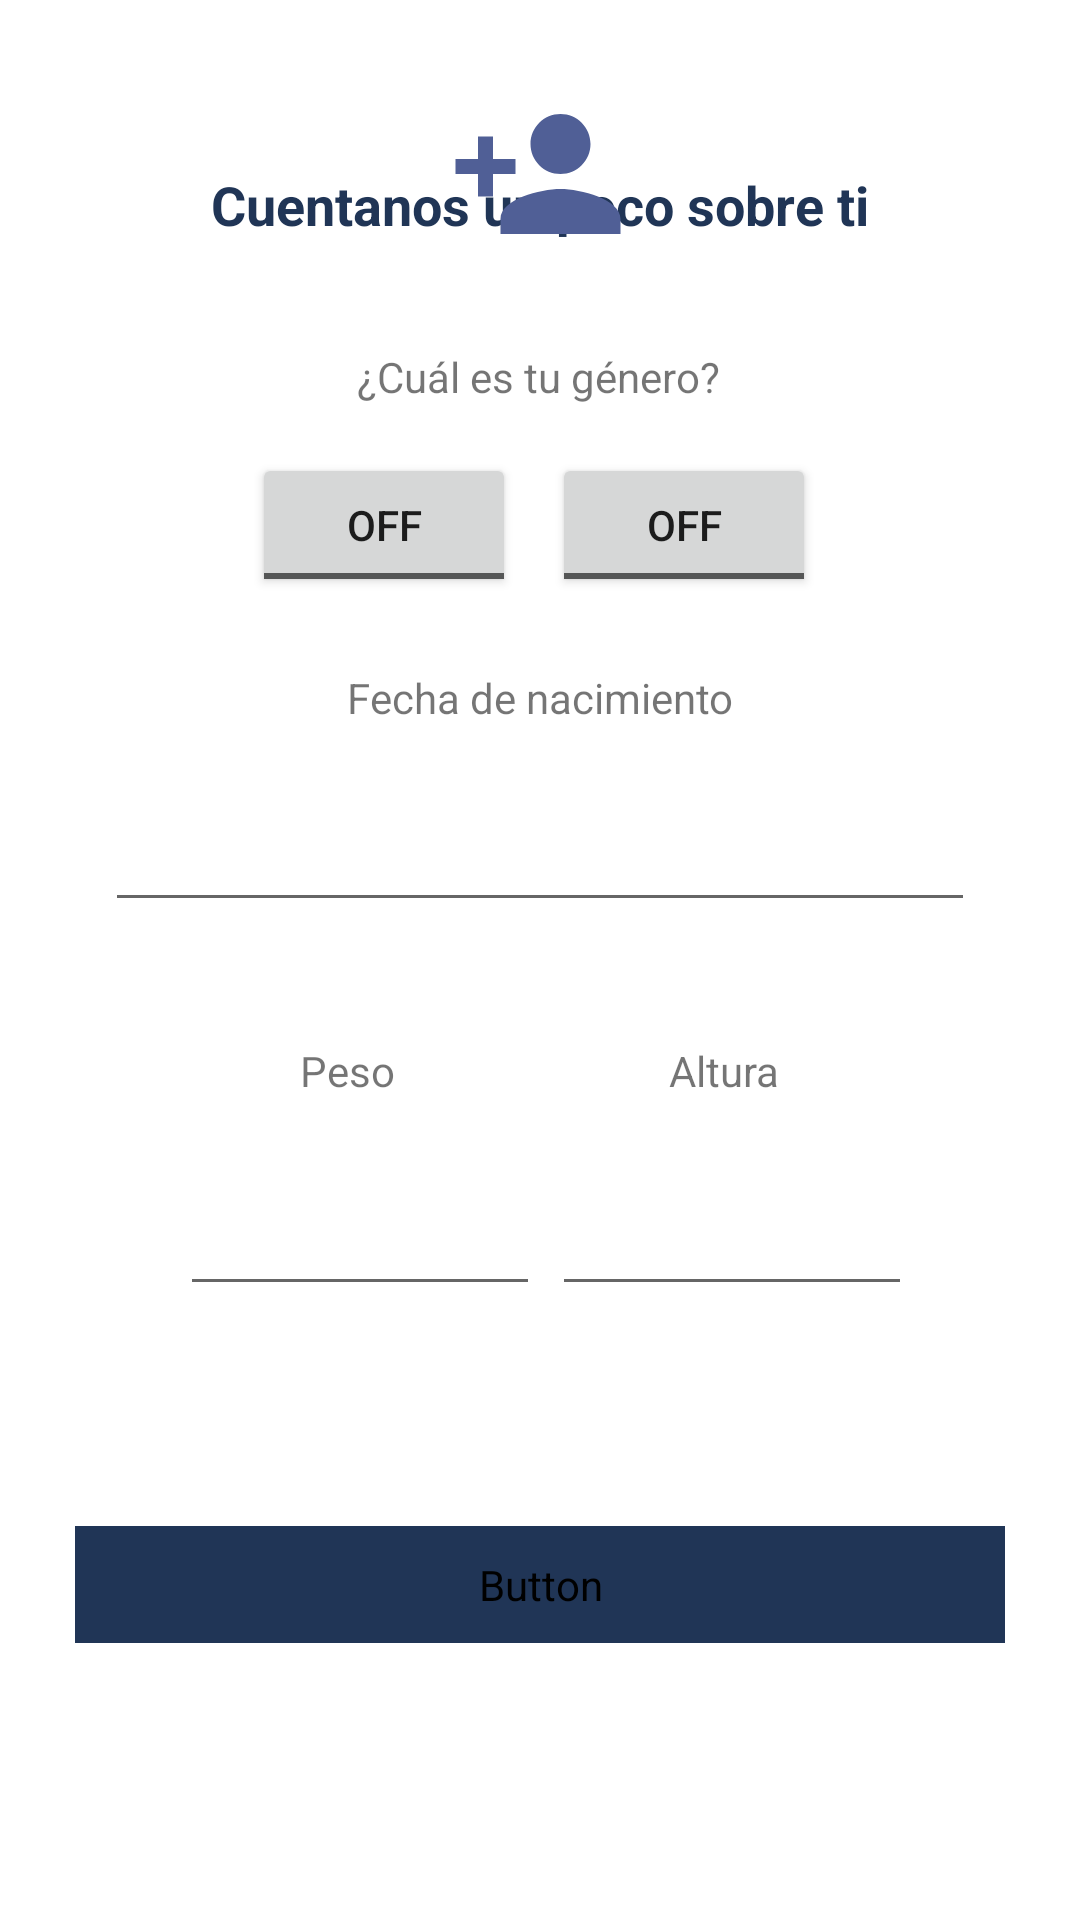

Named icons in this screenshot (1080x1920) and their bounding boxes, BBox(x1, y1, x2, y2):
person add: BBox(448, 114, 628, 237)
